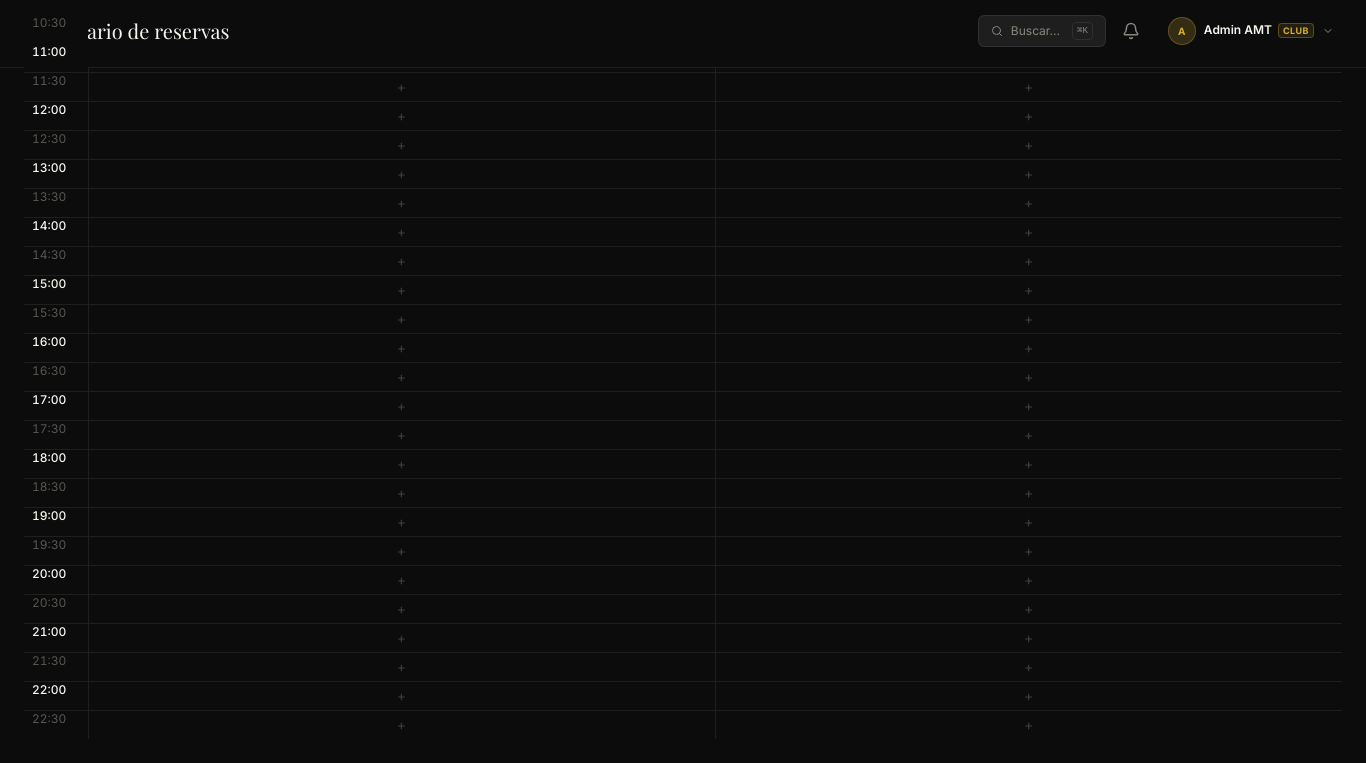
Scenario: Calendario de reservas — vista Día › pulsar un hueco libre abre el alta con esa pista y esa hora
This screenshot has width=1366, height=763.
(page scrolled)
Click the button named "Crear reserva en Pista 2 a las 18:00": (1029, 464) [716,450,1342,478]
(page scrolled)
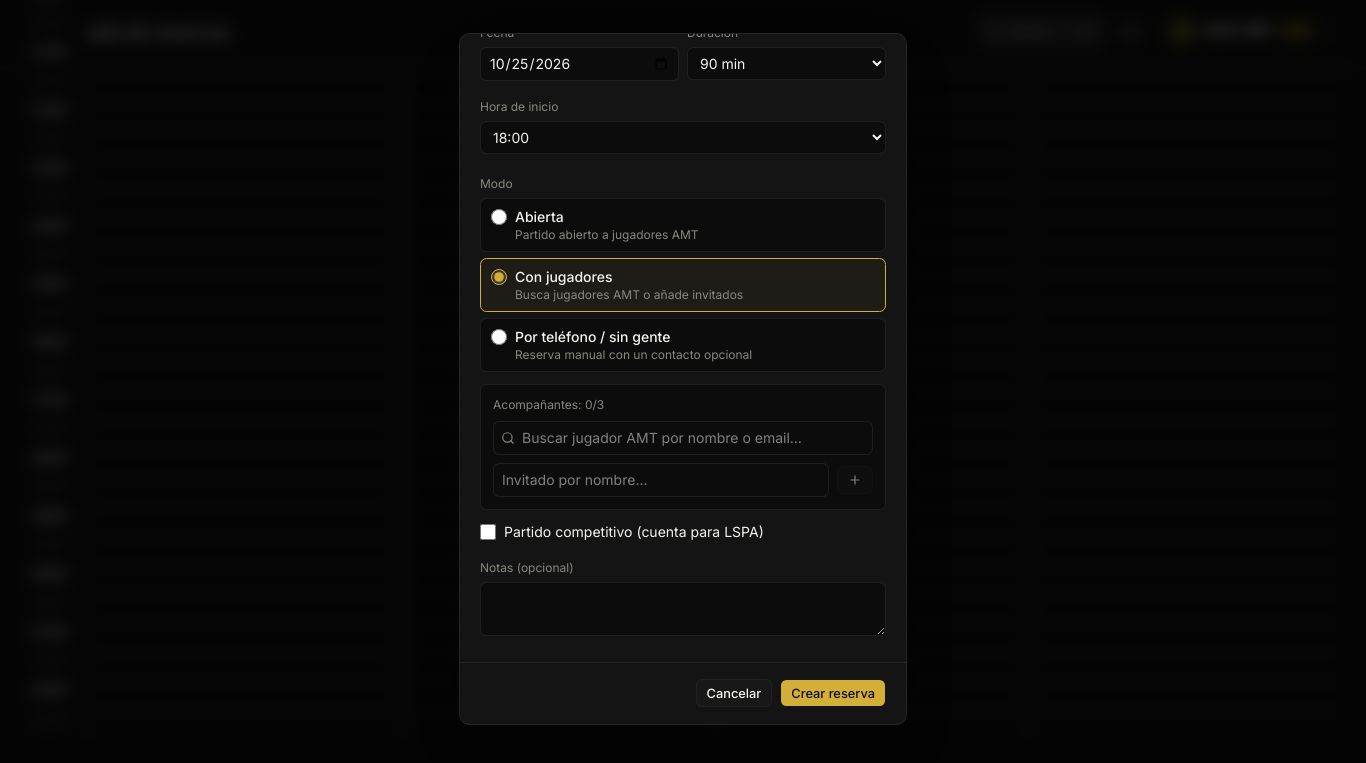
Expected: the dropdown showing "18:00" shows "18:00", [480,121,886,154]
Expected: the button "Crear reserva" is enabled, [780,679,886,707]
